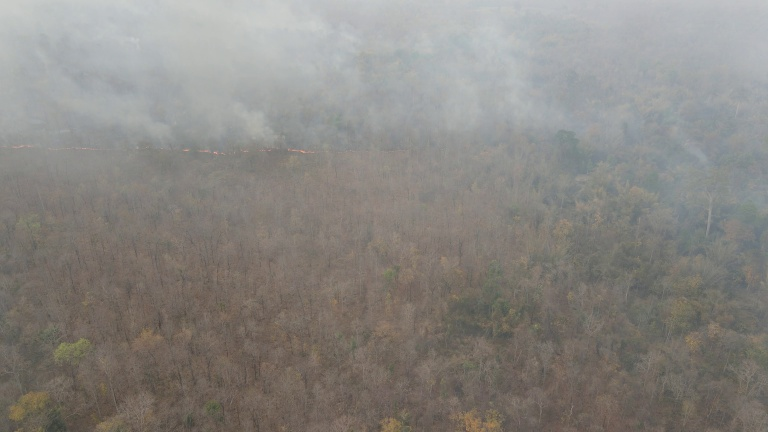fire: (3, 135, 342, 165)
smoke: (3, 1, 604, 173), (611, 1, 768, 209)
